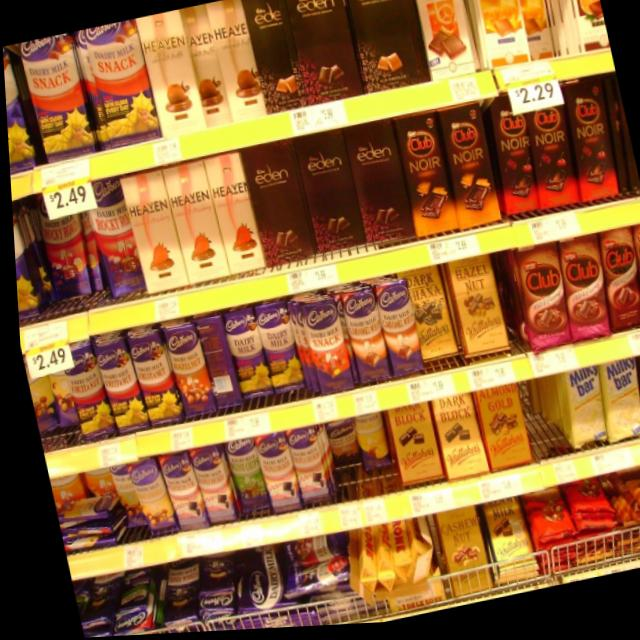q145: (74, 19, 164, 156), (22, 33, 93, 159), (214, 301, 273, 409), (122, 334, 178, 433), (91, 340, 144, 438), (2, 44, 39, 181), (56, 345, 107, 437), (257, 308, 301, 395)
q250: (200, 148, 264, 292), (118, 167, 186, 302), (162, 155, 228, 291)
